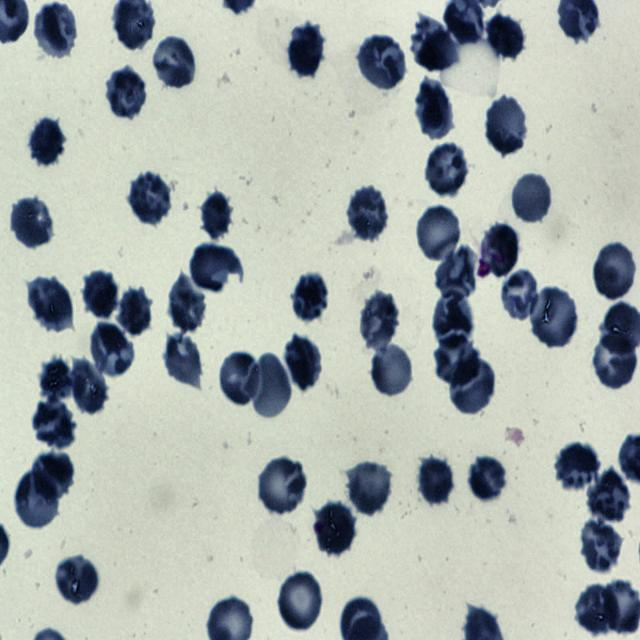red blood cell: (529, 284, 579, 350), (258, 455, 308, 516), (248, 353, 293, 420), (277, 570, 325, 632), (414, 203, 462, 264), (88, 321, 136, 380), (14, 470, 61, 530), (450, 356, 496, 417), (591, 332, 639, 390), (592, 241, 638, 301), (358, 34, 407, 90), (346, 460, 392, 515), (587, 470, 633, 525), (486, 96, 528, 156), (412, 18, 461, 69), (424, 142, 470, 196), (556, 440, 602, 494), (436, 242, 478, 301), (218, 350, 262, 406), (34, 2, 78, 58), (580, 518, 624, 574), (31, 397, 77, 450), (358, 291, 400, 349), (162, 330, 204, 388), (371, 342, 414, 398), (29, 275, 72, 330), (432, 291, 475, 346), (314, 502, 356, 558), (498, 266, 540, 322), (192, 245, 242, 292), (152, 36, 196, 89), (55, 553, 99, 606), (29, 449, 72, 503), (434, 336, 481, 385), (481, 223, 522, 279), (10, 196, 53, 249), (105, 66, 147, 120), (347, 186, 388, 241), (415, 79, 453, 138), (284, 335, 323, 391), (576, 584, 618, 636), (128, 173, 171, 223), (486, 11, 526, 63), (169, 274, 206, 330), (513, 172, 552, 225), (72, 360, 108, 416), (288, 22, 324, 78), (29, 115, 66, 168), (288, 274, 328, 322), (417, 456, 454, 507), (117, 286, 153, 336), (469, 456, 508, 502), (83, 273, 119, 322), (200, 192, 233, 241), (38, 357, 72, 402)
